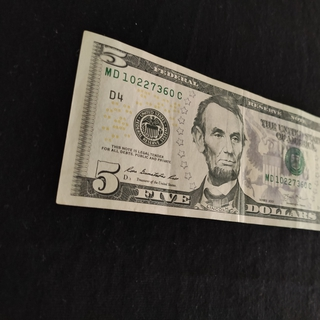5USDFront: (55, 29, 320, 234)
